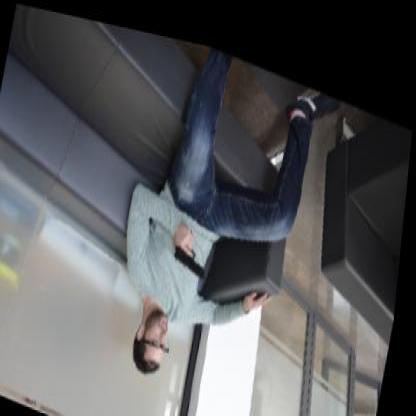pistol: (176, 216, 216, 270)
